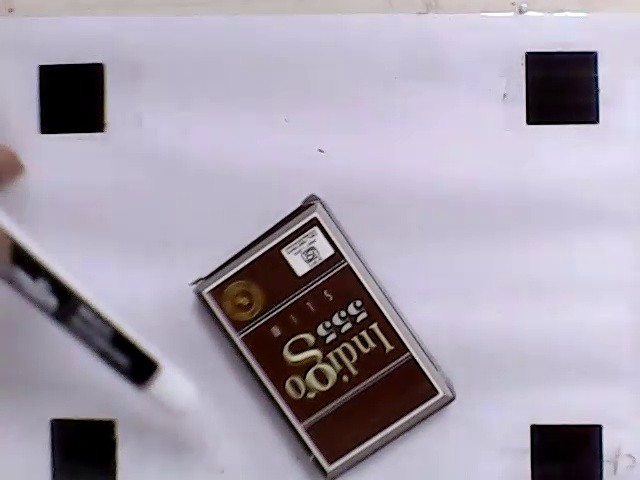BEX: (203, 214, 443, 468)
